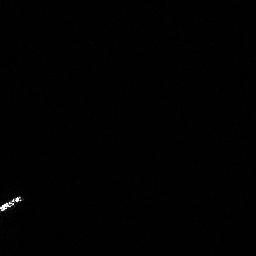ship: (1, 191, 25, 215)
